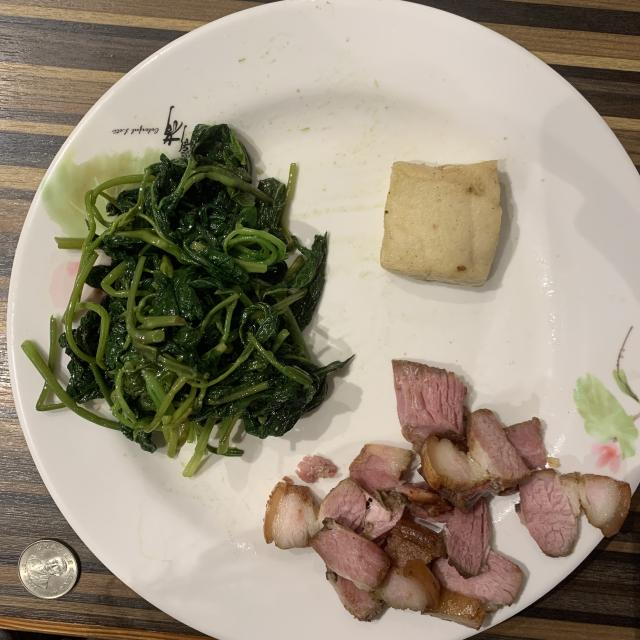coin: (18, 539, 79, 599)
creamy tofu -without sauce-: (380, 160, 501, 286)
grilled pork: (264, 360, 631, 630)
sweet potato leaves: (22, 124, 348, 476)
